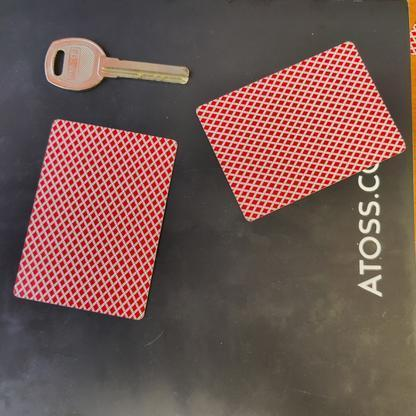card: (190, 33, 409, 229), (9, 113, 183, 327)
